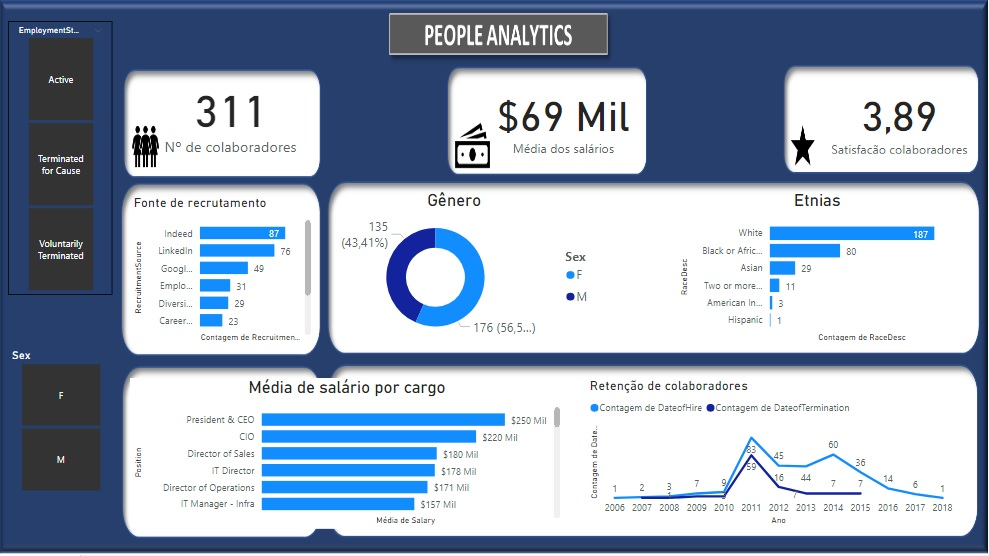

The page's visual inventory and layout, read from the dashboard file:
{"tool":"powerbi","page":{"name":"Página 1","canvas":[1280,720],"ordinal":0},"visuals":[{"type":"card","fields":{"Values":["CountNonNull(HRDataset_v14.EmpID)"]},"box":[207.3,92.3,184.6,119.3],"z":0},{"type":"card","fields":{"Values":["Avg(HRDataset_v14.Salary)"]},"box":[616.3,102.2,225.8,109.3],"z":1000},{"type":"card","fields":{"Values":["Avg(HRDataset_v14.EmpSatisfaction)"]},"box":[1067.9,107.9,191.7,99.4],"z":2000},{"type":"donutChart","title":"Gênero","fields":{"Category":["HRDataset_v14.Sex"],"Y":["CountNonNull(HRDataset_v14.Sex)"]},"box":[392,249.9,393.4,198.8],"z":3000},{"type":"clusteredBarChart","title":"Média de salário por cargo","fields":{"Category":["HRDataset_v14.Position"],"Y":["Avg(HRDataset_v14.Salary)"]},"box":[169,491.4,560.9,194.6],"z":4000},{"type":"clusteredBarChart","title":"Etnias","fields":{"Category":["HRDataset_v14.RaceDesc"],"Y":["CountNonNull(HRDataset_v14.RaceDesc)"]},"box":[874.8,249.9,365,198.8],"z":5000},{"type":"clusteredBarChart","title":"Fonte de recrutamento","fields":{"Category":["HRDataset_v14.RecruitmentSource"],"Y":["CountNonNull(HRDataset_v14.RecruitmentSource)"]},"box":[169,254.2,238.6,194.6],"z":6000},{"type":"lineChart","title":"Retenção de colaboradores","fields":{"Category":["HRDataset_v14.DateofHire.Variation.Hierarquia de datas.Ano","HRDataset_v14.DateofHire.Variation.Hierarquia de datas.Mês","HRDataset_v14.DateofTermination.Variation.Hierarquia de datas.Ano","HRDataset_v14.DateofTermination.Variation.Hierarquia de datas.Mês"],"Y":["CountNonNull(HRDataset_v14.DateofHire)","CountNonNull(HRDataset_v14.DateofTermination)"]},"box":[784.6,491.2,455,195.2],"z":7000},{"type":"slicer","fields":{"Values":["HRDataset_v14.EmploymentStatus"]},"box":[11.4,29.8,134.9,353.6],"z":8000},{"type":"slicer","fields":{"Values":["HRDataset_v14.Sex"]},"box":[4.3,448.8,150.5,194.6],"z":9000}]}

Visuals, with their boxes in screenshot pixels (x1, y1, x2, y2), scaled from the page's 1280x720 canvas onto the 989x556 screenshot:
card - CountNonNull(HRDataset_v14.EmpID): (160, 71, 303, 163)
card - Avg(HRDataset_v14.Salary): (476, 79, 651, 163)
card - Avg(HRDataset_v14.EmpSatisfaction): (825, 83, 973, 160)
"Gênero" donutChart: (303, 193, 607, 346)
"Média de salário por cargo" clusteredBarChart: (131, 379, 564, 530)
"Etnias" clusteredBarChart: (676, 193, 958, 346)
"Fonte de recrutamento" clusteredBarChart: (131, 196, 315, 347)
"Retenção de colaboradores" lineChart: (606, 379, 958, 530)
slicer - HRDataset_v14.EmploymentStatus: (9, 23, 113, 296)
slicer - HRDataset_v14.Sex: (3, 347, 120, 497)
